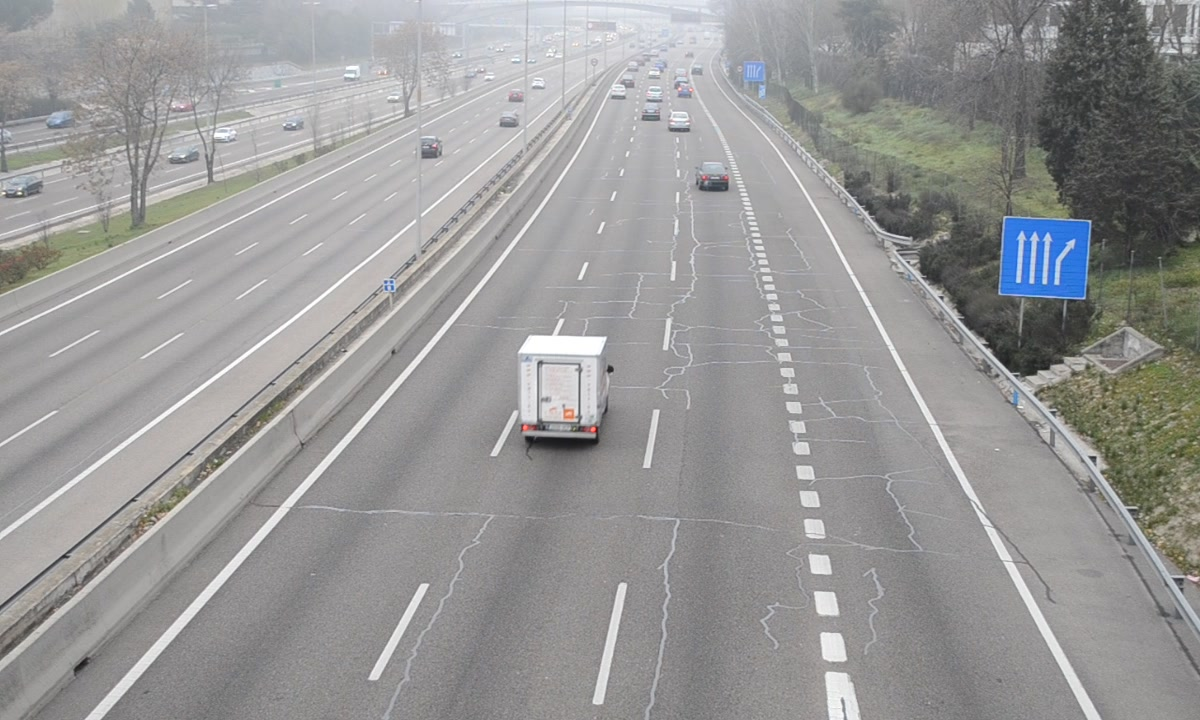car: (697, 160, 731, 190)
small-truck: (520, 336, 613, 440)
